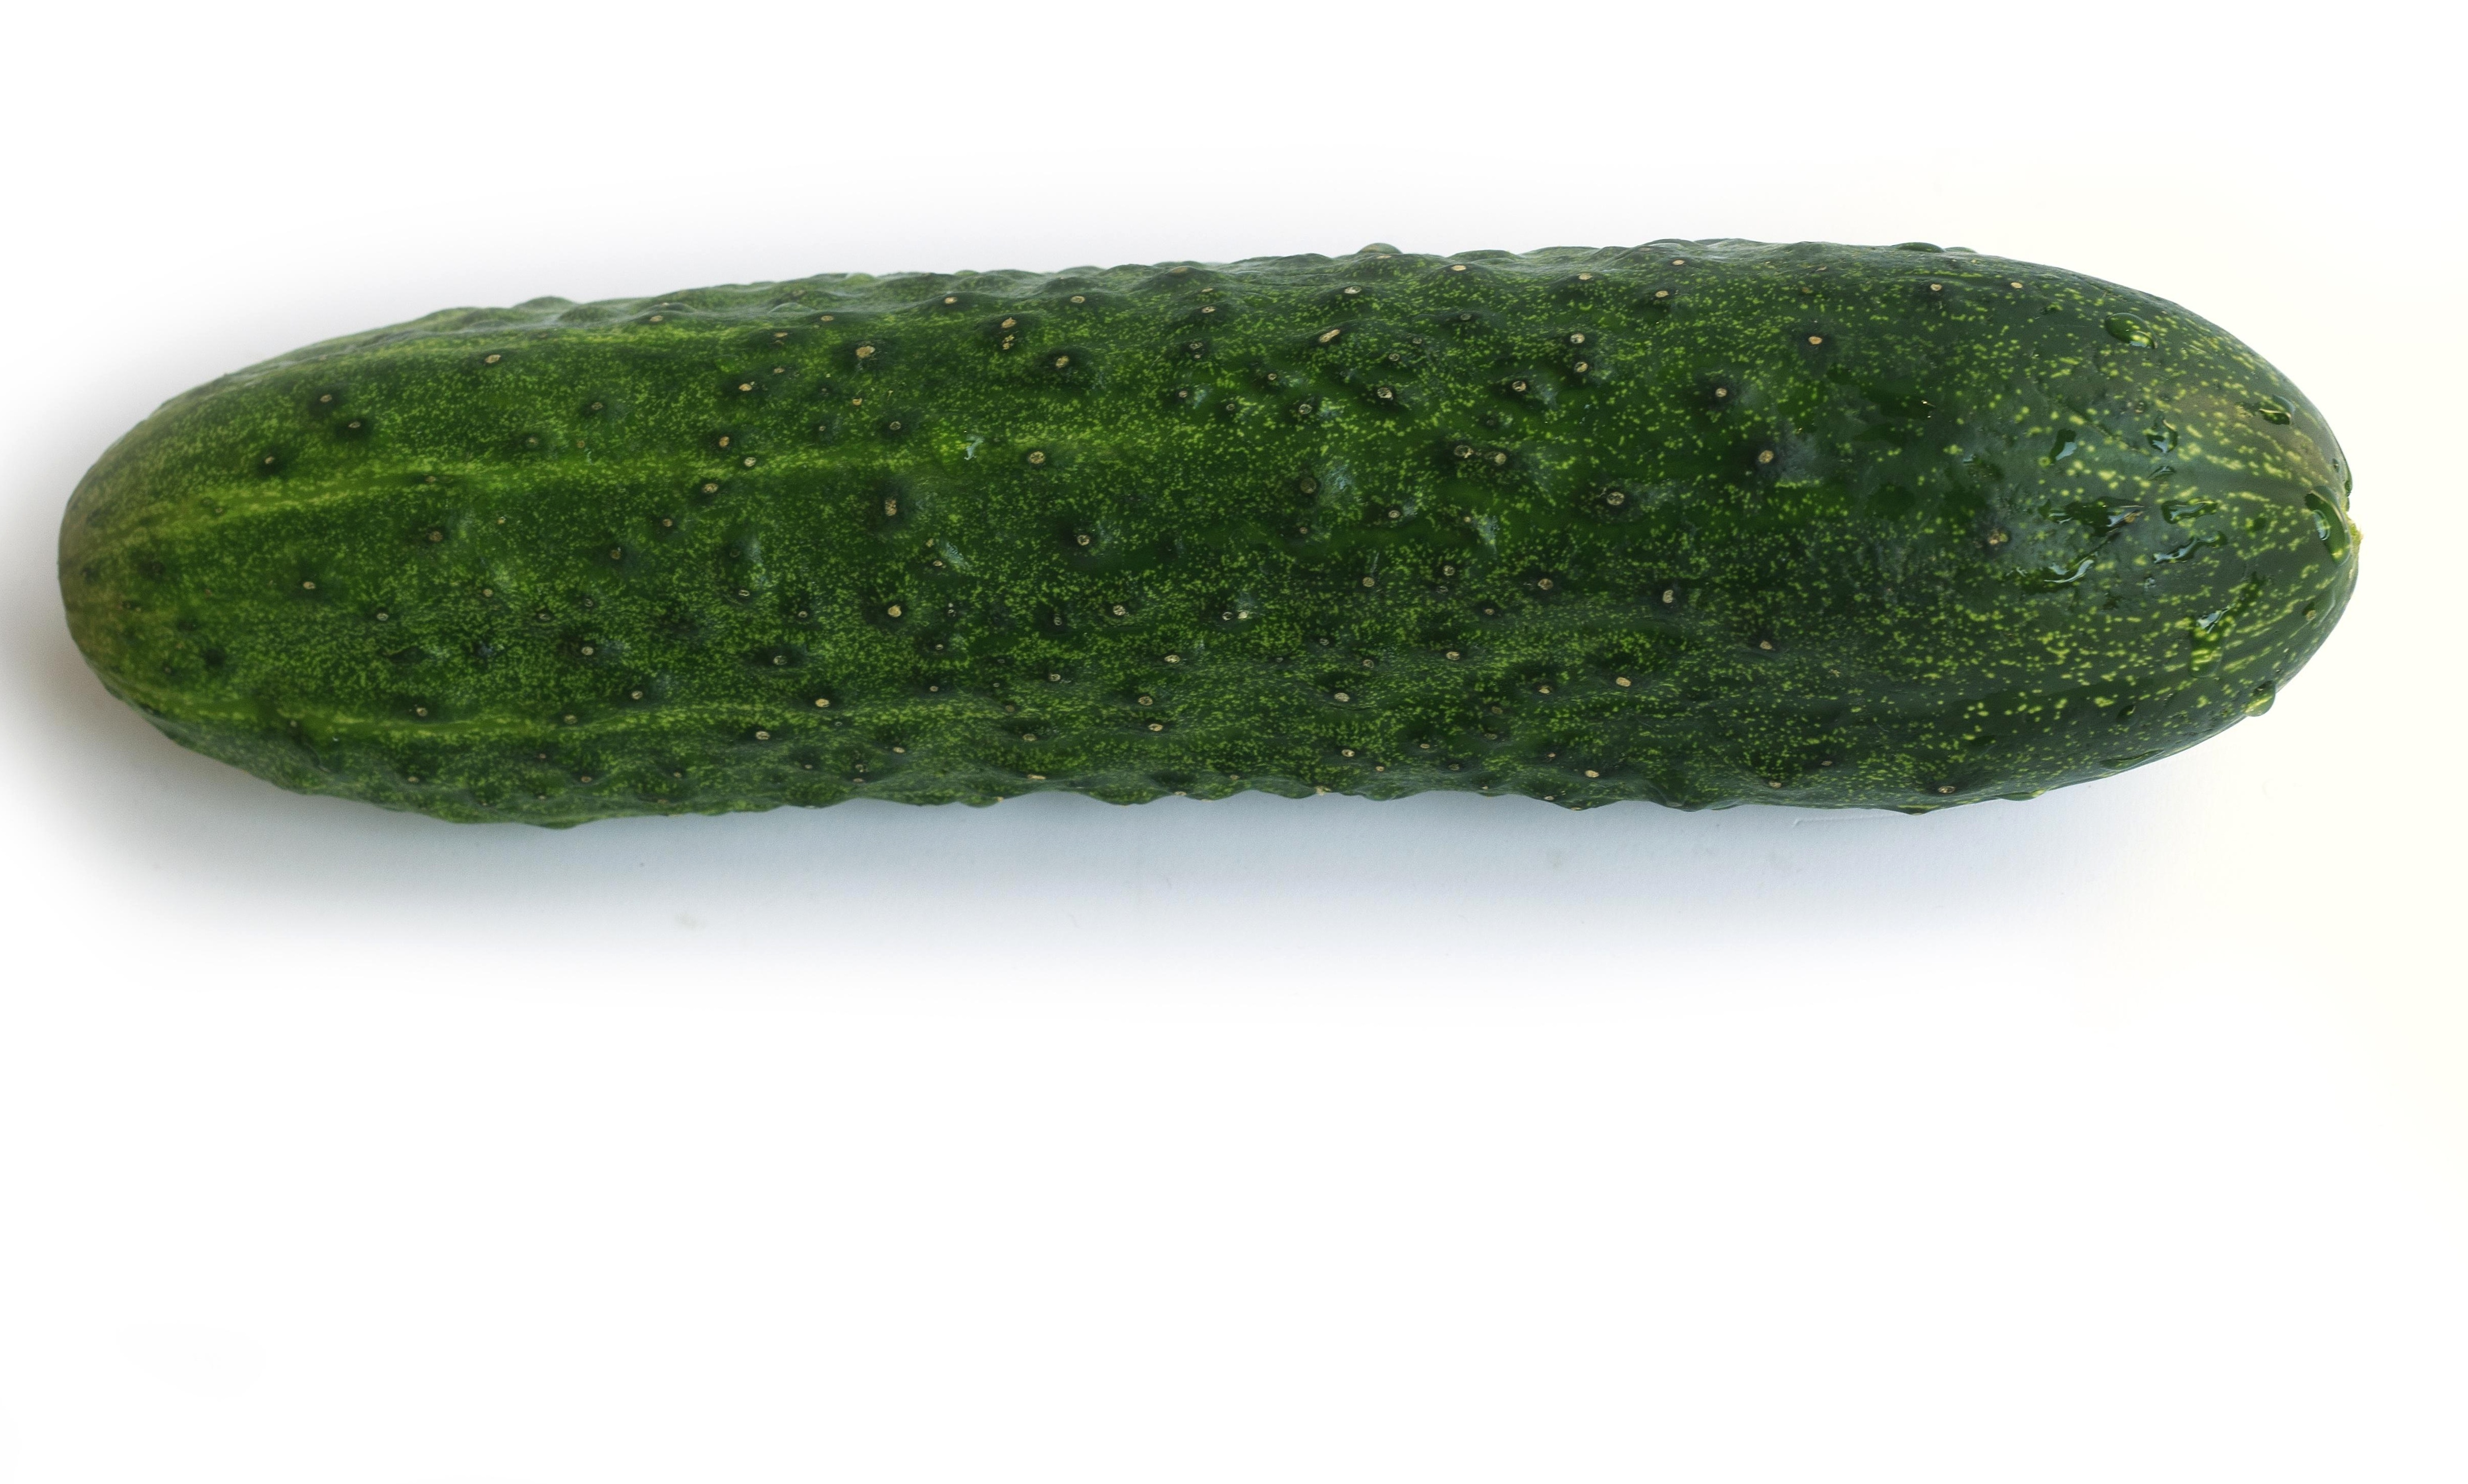cucumber: (39, 211, 2353, 816)
